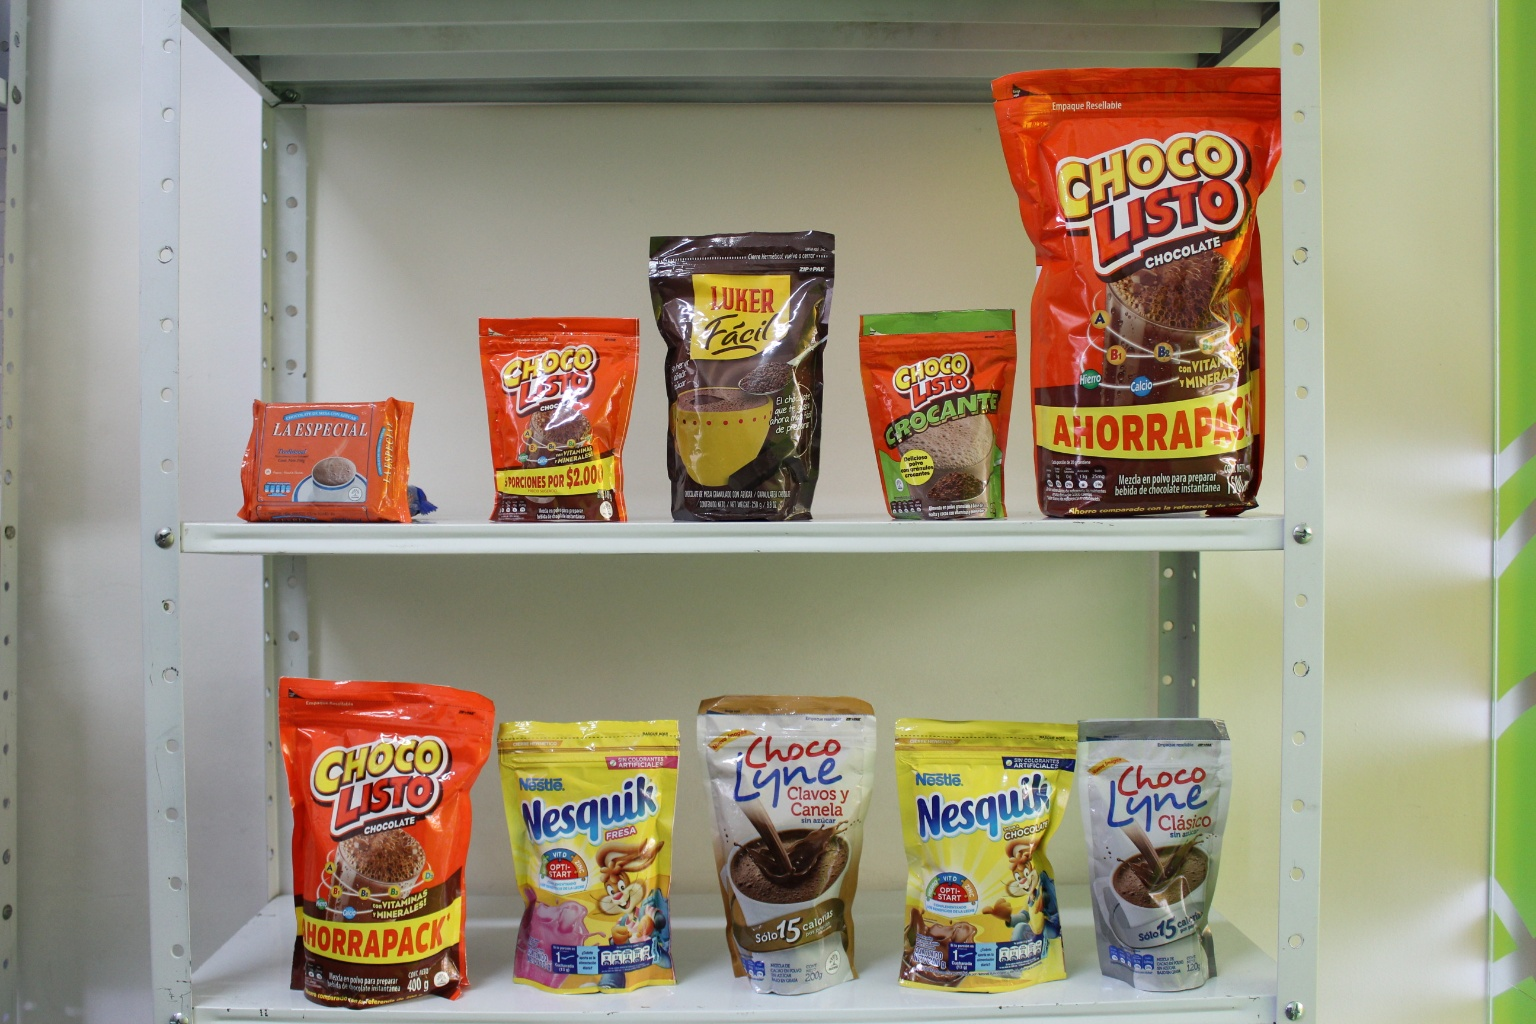COL0170102DYP10000: (833, 291, 1031, 523)
COL0170103DYP1,500: (975, 46, 1283, 518)
COL0170103DYP10000: (473, 305, 646, 523)
COL0170103DYP40000: (254, 667, 503, 1010)
COL0170303DYP20000: (897, 709, 1091, 1003)
COL0170305DYP20000: (501, 712, 691, 997)
